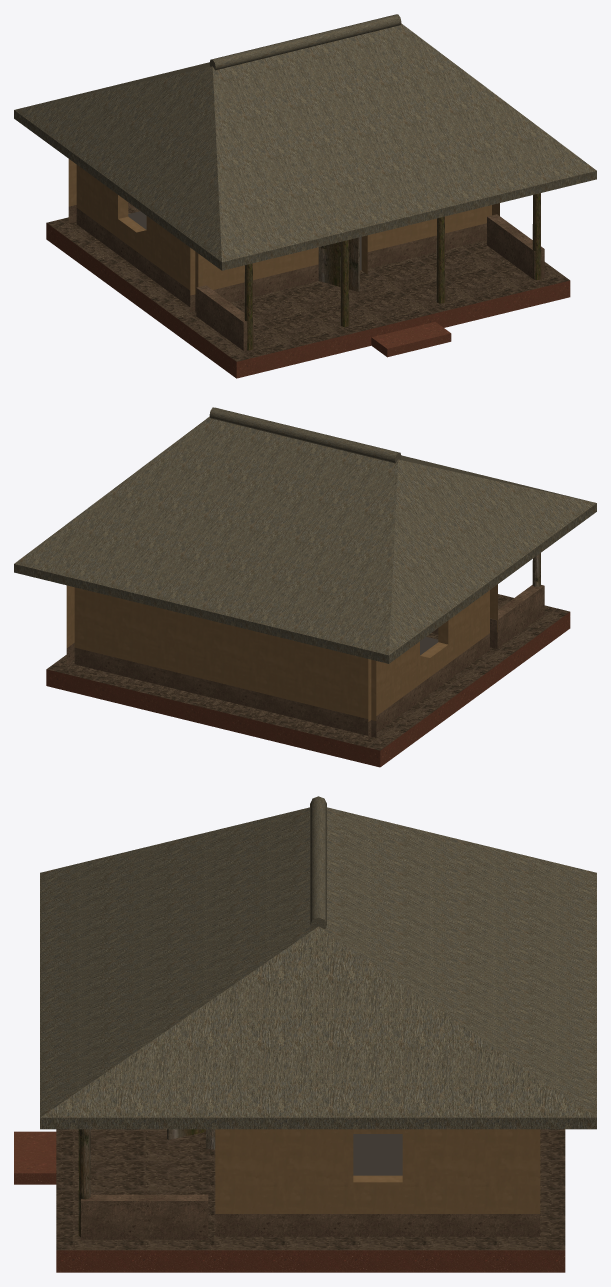
File: hut_c.glb
3 renders of one model, top to bottom at view 1: azimuth 30°, elevation 25°; view 2: azimuth 150°, elevation 25°; view 3: azimuth 270°, elevation 25°, orthographic. The views are drawn at different scales.
Parts seen in each view (by area): view 1: hut_c; view 2: hut_c; view 3: hut_c.
Part boxes in pixels (x1,y1,x2,y2): hut_c: (14,14,596,378); hut_c: (14,407,596,767); hut_c: (14,796,596,1272).
Bounding box in the file's own units: 8.2 × 4.79 × 8.25.
8 materials, 7 textured.
